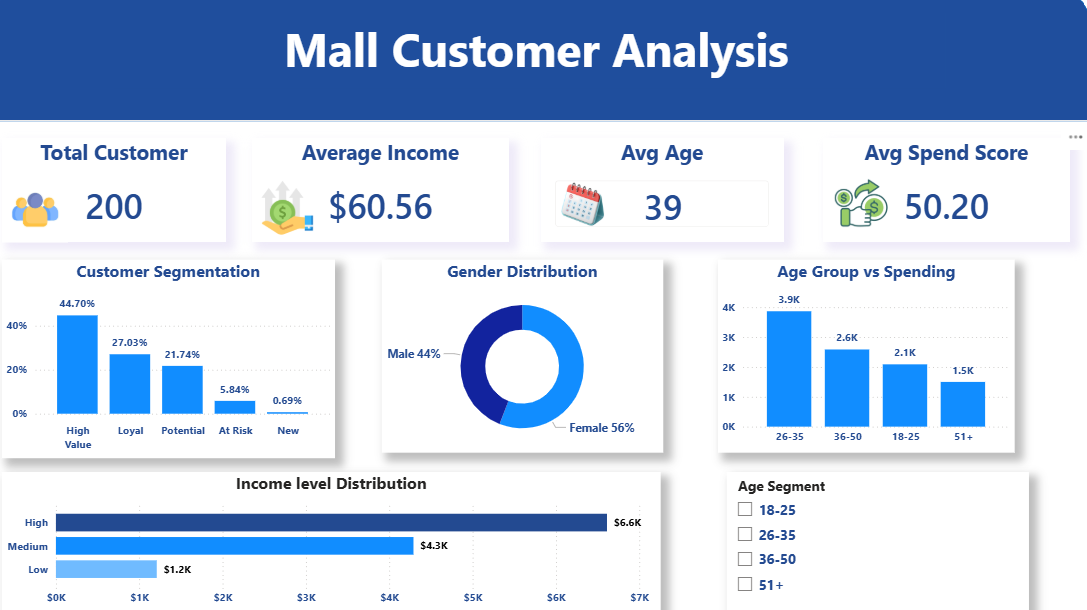

The page's visual inventory and layout, read from the dashboard file:
{"tool":"powerbi","page":{"name":"Page 1","canvas":[1280,720],"ordinal":0},"visuals":[{"type":"cardVisual","title":"Total Customer","fields":{"Data":["CountNonNull(Mall_Customers (2).CustomerID)"]},"box":[16,170,260,120],"z":0},{"type":"cardVisual","title":"Average Income","fields":{"Data":["Avg(Mall_Customers (2).Annual Income )"]},"box":[306,170,298,120],"z":1000},{"type":"cardVisual","title":"Avg Age","fields":{"Data":["Avg(Mall_Customers (2).Age)"]},"box":[640,170,282,120],"z":2000},{"type":"cardVisual","title":"Avg Spend Score","fields":{"Data":["Avg(Mall_Customers (2).Spending Score )"]},"box":[968,170,286,120],"z":3000},{"type":"shape","box":[0,0,1280,150],"z":4000},{"type":"textbox","box":[145.9,24.6,963.9,86.9],"z":5000},{"type":"donutChart","title":"Gender Distribution","fields":{"Category":["Mall_Customers (2).Gender"],"Y":["CountNonNull(Mall_Customers (2).Gender)"]},"box":[456,310,326,224],"z":6001},{"type":"clusteredColumnChart","title":"Customer Segmentation","fields":{"Category":["Mall_Customers (2).Customer_Segment1"],"Y":["Mall_Customers (2).Revenue Contribution %"]},"box":[16,310,386,230],"z":6002},{"type":"clusteredColumnChart","title":"Age Group vs Spending","fields":{"Y":["Mall_Customers (2).Segment Revenue"],"Category":["Mall_Customers (2).Age Segment"]},"box":[846,310,344,224],"z":6003},{"type":"clusteredBarChart","title":"Income level Distribution","fields":{"Category":["Mall_Customers (2).Income_category"],"Y":["Sum(Mall_Customers (2).Annual Income )"]},"box":[16,556,764,164],"z":6004},{"type":"slicer","fields":{"Values":["Mall_Customers (2).Age Segment"]},"box":[856,556,350,164],"z":6005},{"type":"image","box":[16,214,78,76],"z":6006},{"type":"image","box":[292,214,110,70],"z":6007},{"type":"image","box":[968,210,88,68],"z":6009},{"type":"image","box":[640,214,98,64],"z":6010}]}

Visuals, with their boxes in screenshot pixels (x1, y1, x2, y2), scaled from the page's 1280x720 canvas onto the 1087x610 screenshot:
"Total Customer" cardVisual: crop(14, 144, 234, 246)
"Average Income" cardVisual: crop(260, 144, 513, 246)
"Avg Age" cardVisual: crop(544, 144, 783, 246)
"Avg Spend Score" cardVisual: crop(822, 144, 1065, 246)
shape: crop(0, 0, 1086, 127)
textbox: crop(124, 21, 942, 94)
"Gender Distribution" donutChart: crop(387, 263, 664, 452)
"Customer Segmentation" clusteredColumnChart: crop(14, 263, 341, 458)
"Age Group vs Spending" clusteredColumnChart: crop(718, 263, 1011, 452)
"Income level Distribution" clusteredBarChart: crop(14, 471, 662, 609)
slicer - Mall_Customers (2).Age Segment: crop(727, 471, 1024, 609)
image: crop(14, 181, 80, 246)
image: crop(248, 181, 341, 241)
image: crop(822, 178, 897, 236)
image: crop(544, 181, 627, 236)
